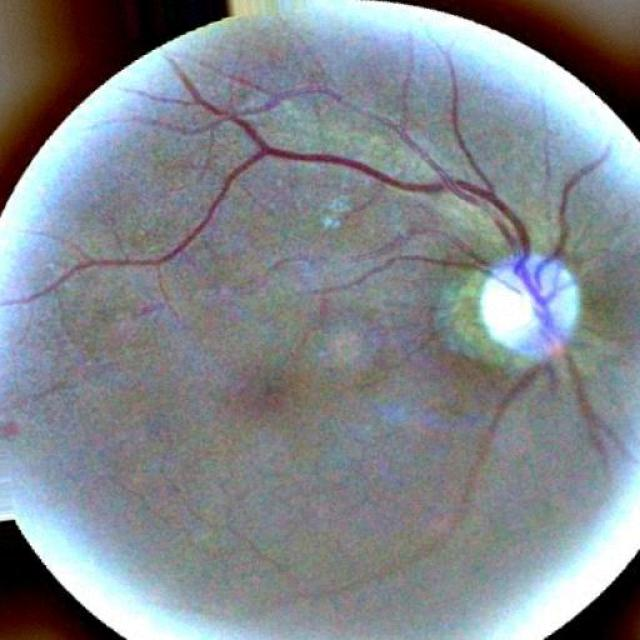Macula: (215, 361, 320, 446)
Nerves: (20, 77, 624, 594)
Optic Disk: (435, 222, 617, 399)
